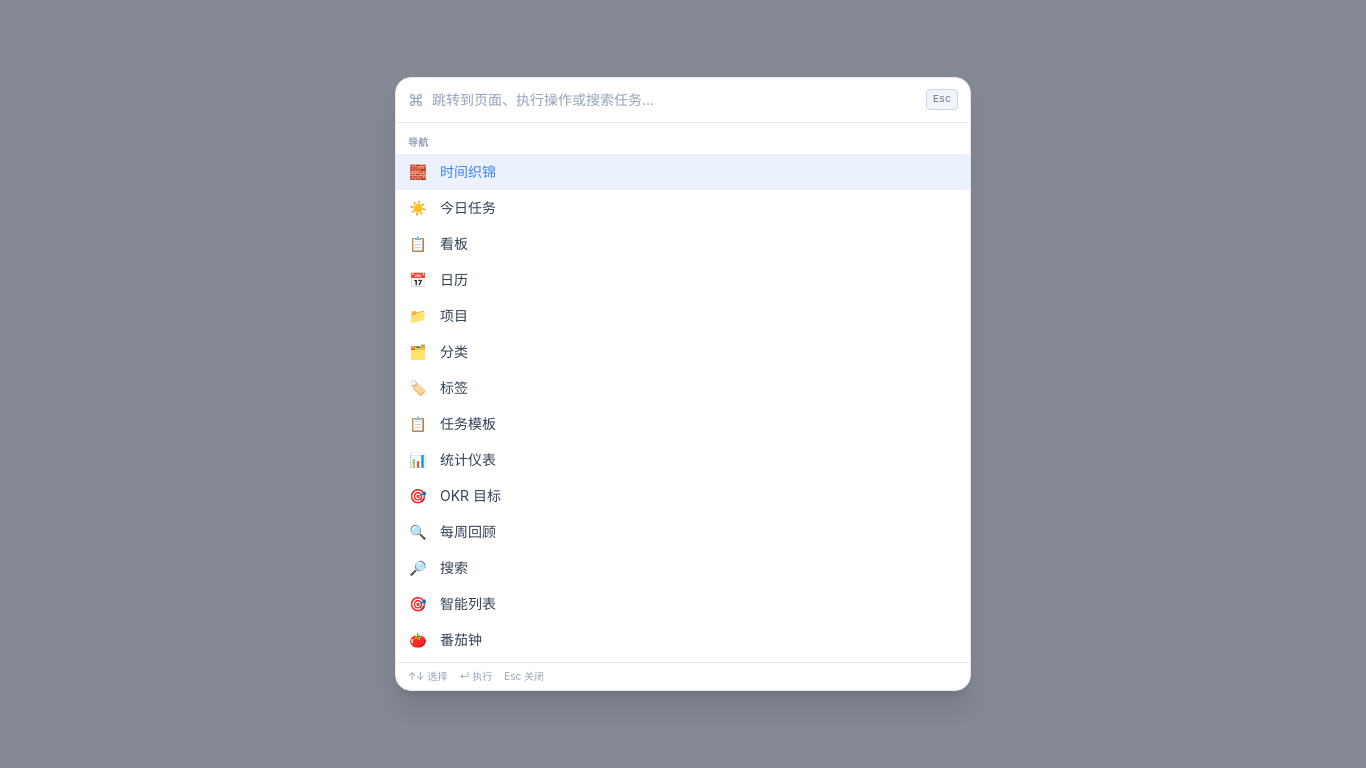
Test: CommandPalette › 任务搜索:输入文字匹配任务标题并展示为命令
Type "周报" into the field named "命令搜索" at (675, 100), box [432,78,918,122]
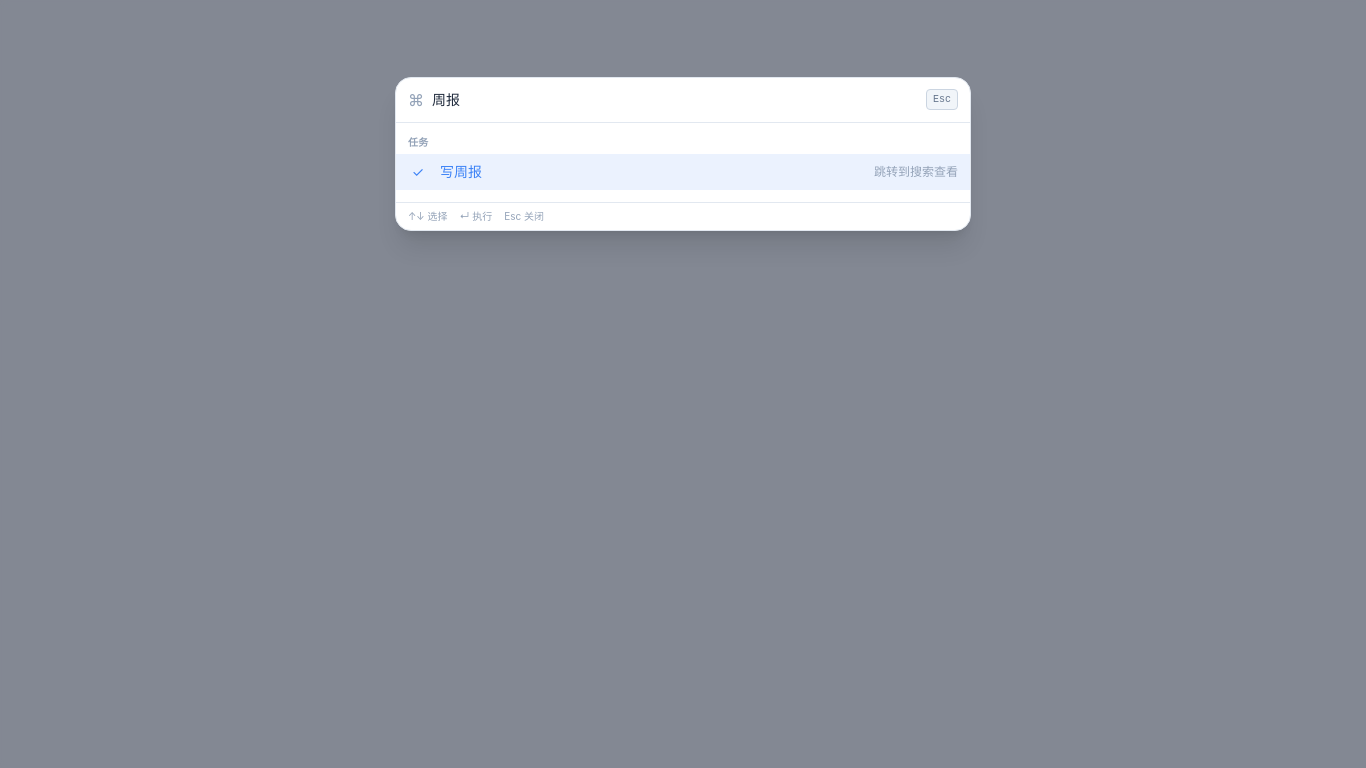
Check: the text "写周报" is shown, box [440,163,482,180]
